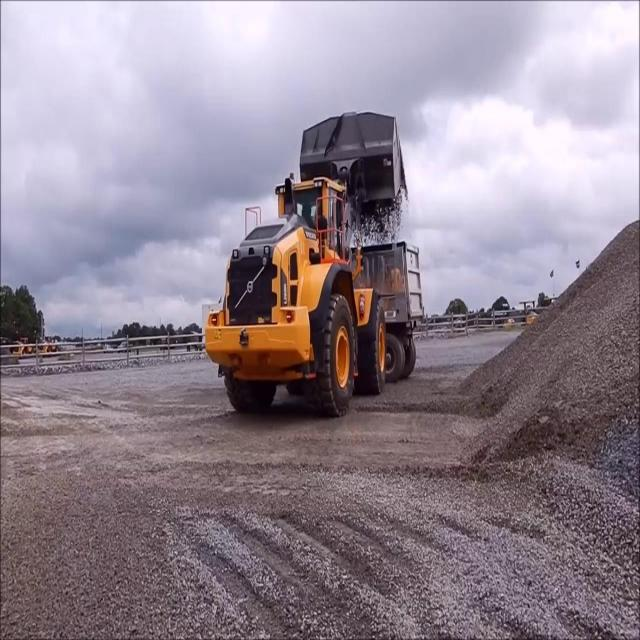Dump Truck: (347, 241, 423, 381)
Loader: (205, 110, 403, 419)
